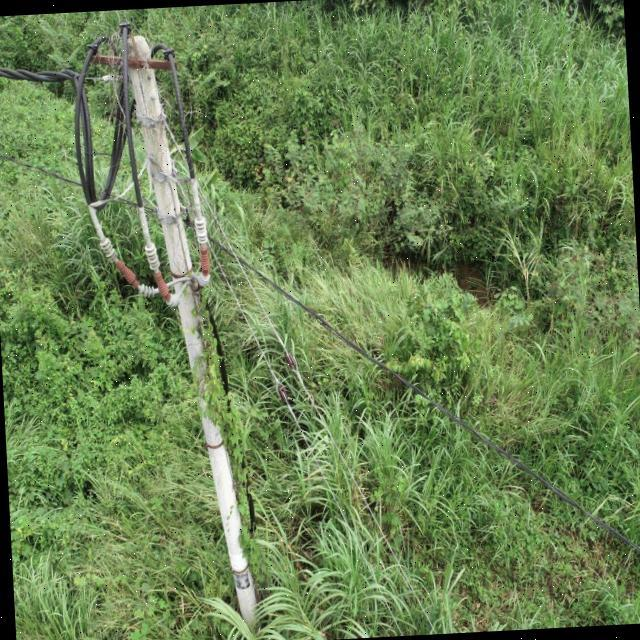critical vegetation: (179, 280, 271, 597)
